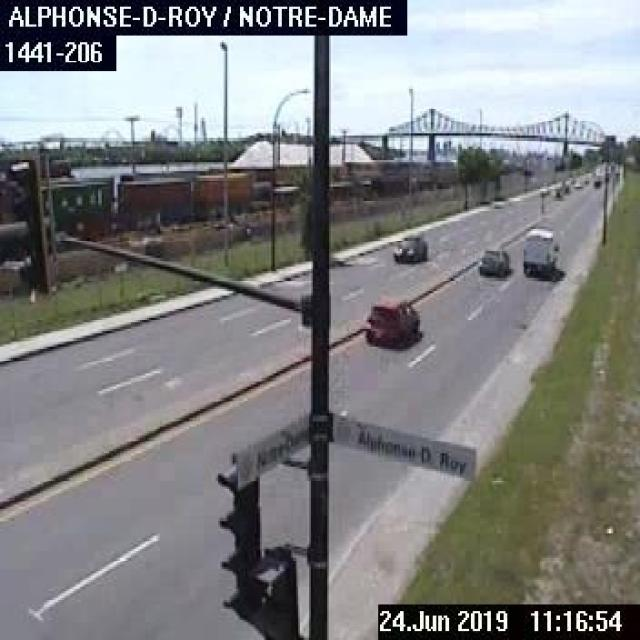vehicle: (362, 293, 420, 347), (520, 224, 558, 274), (390, 232, 426, 262), (478, 244, 507, 274)
